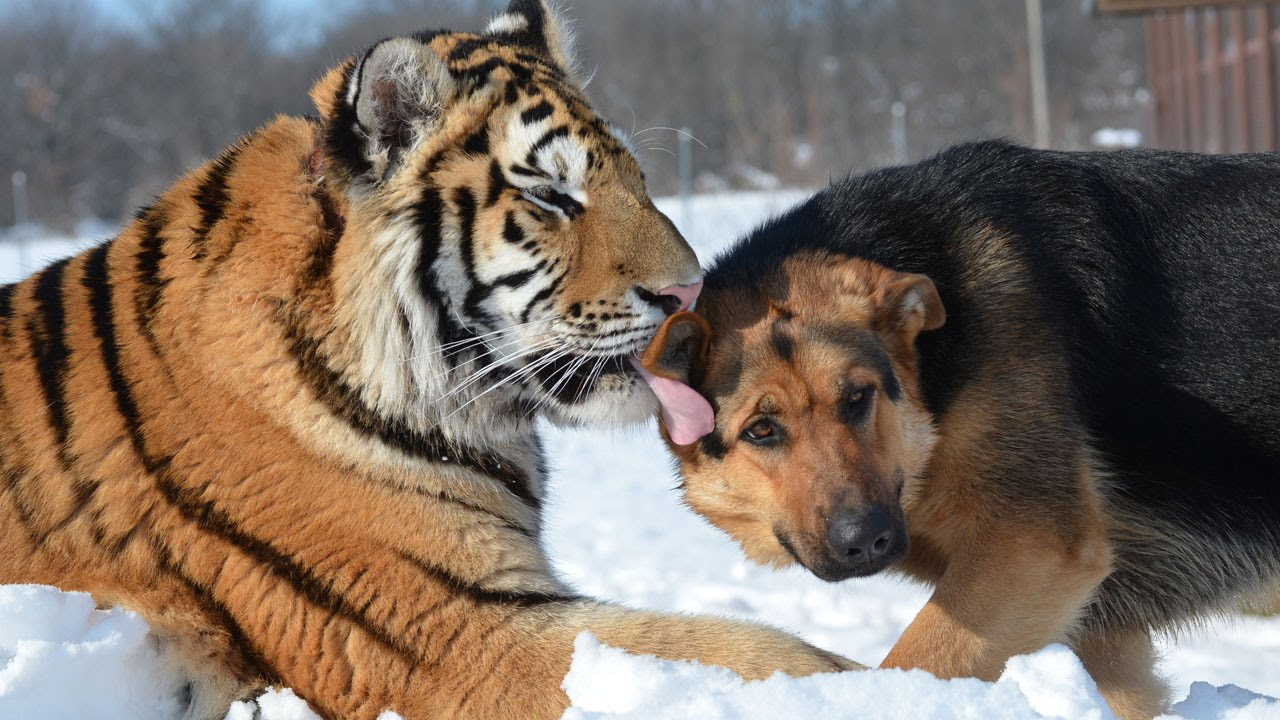dog: (648, 148, 1280, 702)
tiger: (1, 10, 782, 714)
